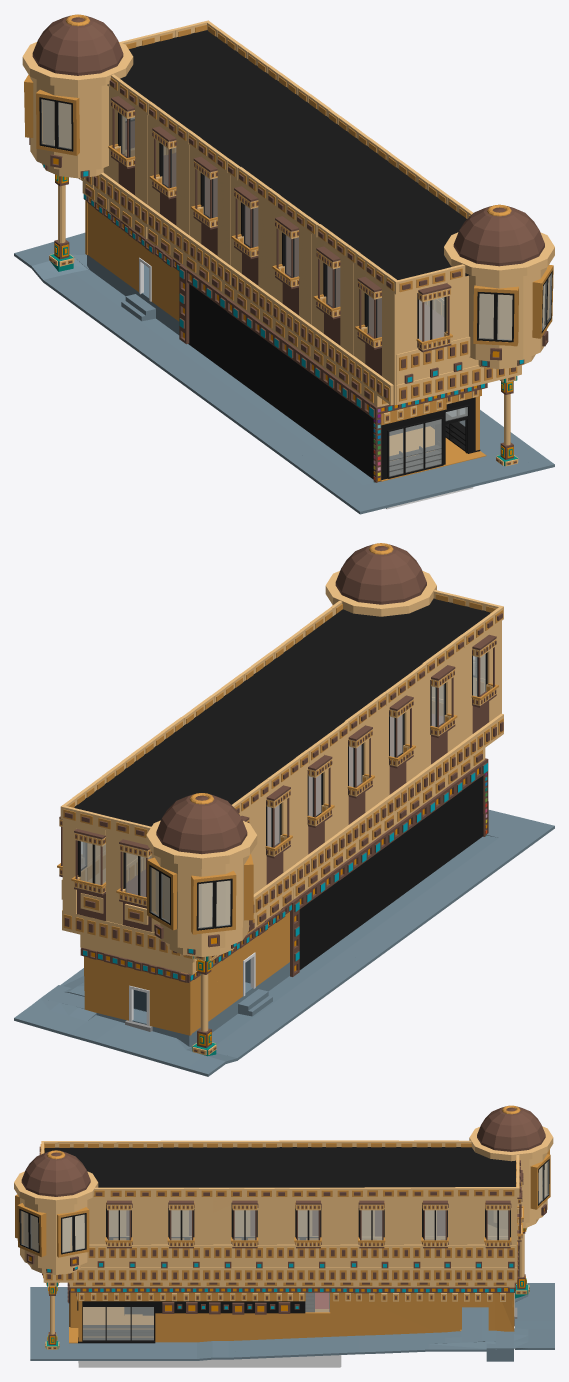
Rendered from foodhouse.glb.
3 views of the same model, one above another, from view 1: azimuth 30°, elevation 25°; view 2: azimuth 150°, elevation 25°; view 3: azimuth 270°, elevation 25° (orthographic). The views are drawn at different scales.
Parts seen in each view (by area): view 1: group1066191626, group219138821, group1814480095, group1578043062, group528648909, group563002521, group1411027880, group1862535039, group1248894546, group702805443, group733481871, group2051115527 (+37 smaller); view 2: group1066191626, group1814480095, group219138821, group1578043062, group563002521, group1411027880, group1862535039, group733481871, group2051115527, group1820967205, group307382192, group252392451 (+33 smaller); view 3: group528648909, group1066191626, group1819447511, group632102328, group1814480095, group2035780573, group1374149305, group804880341, group1532408424, group1179991572, group243043597, group1938037593 (+39 smaller).
Part boxes in pixels (x1,y1,x2,y2): group1066191626: [120, 30, 469, 279]; group219138821: [230, 175, 396, 405]; group1814480095: [22, 14, 133, 178]; group1578043062: [188, 284, 373, 479]; group528648909: [381, 383, 487, 509]; group563002521: [100, 172, 393, 405]; group1411027880: [43, 276, 375, 514]; group1862535039: [58, 272, 388, 510]; group1248894546: [396, 275, 468, 354]; group702805443: [469, 267, 546, 362]; group733481871: [453, 206, 544, 266]; group2051115527: [73, 269, 373, 485]; group1066191626: [74, 598, 490, 826]; group1814480095: [146, 793, 257, 956]; group219138821: [337, 621, 501, 832]; group1578043062: [299, 776, 483, 969]; group563002521: [253, 713, 503, 916]; group1411027880: [223, 822, 554, 1060]; group1862535039: [216, 818, 539, 1054]; group733481871: [335, 544, 426, 604]; group2051115527: [212, 835, 498, 1044]; group1820967205: [14, 1012, 216, 1076]; group307382192: [148, 972, 191, 1035]; group252392451: [71, 829, 106, 895]; group528648909: [69, 1284, 460, 1367]; group1066191626: [44, 1147, 515, 1187]; group1819447511: [75, 1267, 514, 1282]; group632102328: [88, 1244, 516, 1260]; group1814480095: [469, 1105, 553, 1228]; group2035780573: [404, 1197, 467, 1248]; group1374149305: [213, 1198, 276, 1248]; group804880341: [340, 1198, 403, 1248]; group1532408424: [277, 1198, 340, 1248]; group1179991572: [151, 1198, 213, 1248]; group243043597: [89, 1198, 151, 1248]; group1938037593: [70, 1344, 428, 1360].
Size of the model in its own units: 2.58 by 3.26 by 7.33.
